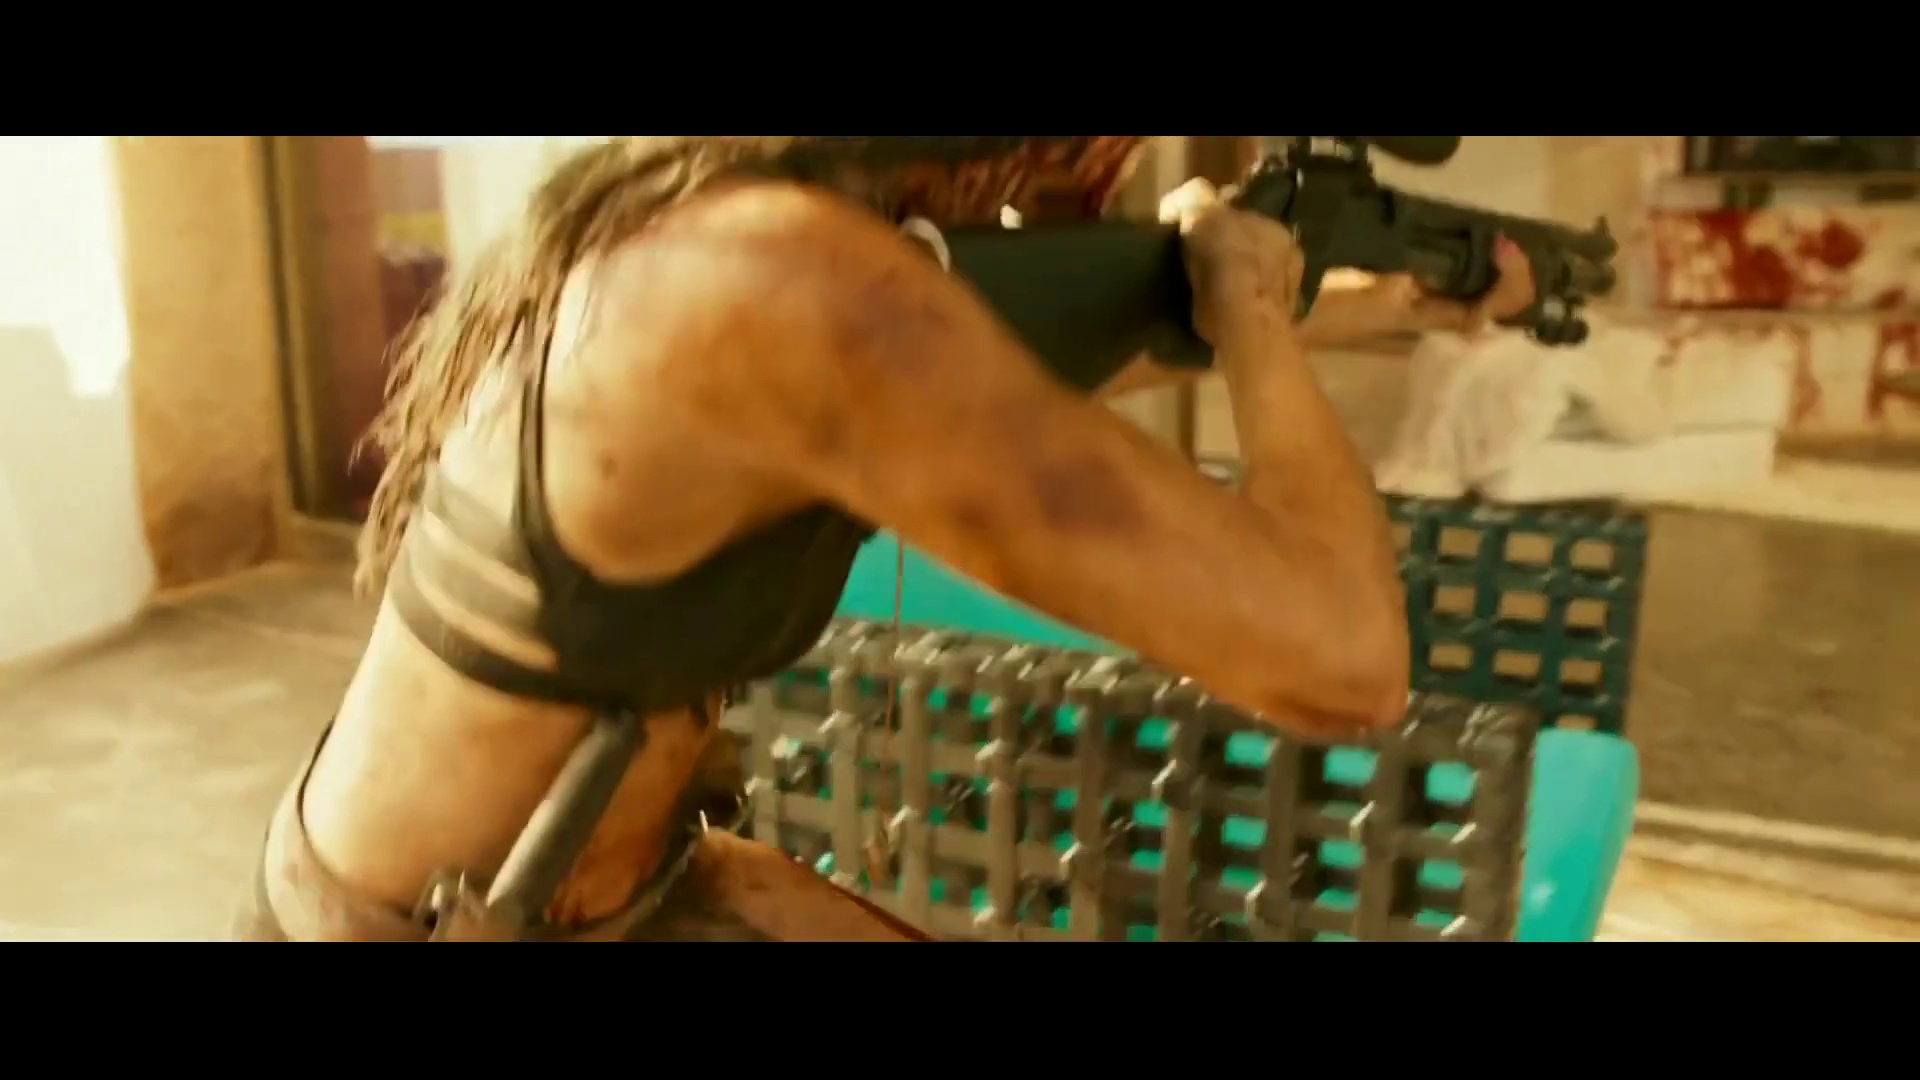gun: (839, 135, 1621, 411)
p_w_gun: (251, 138, 1629, 930)
